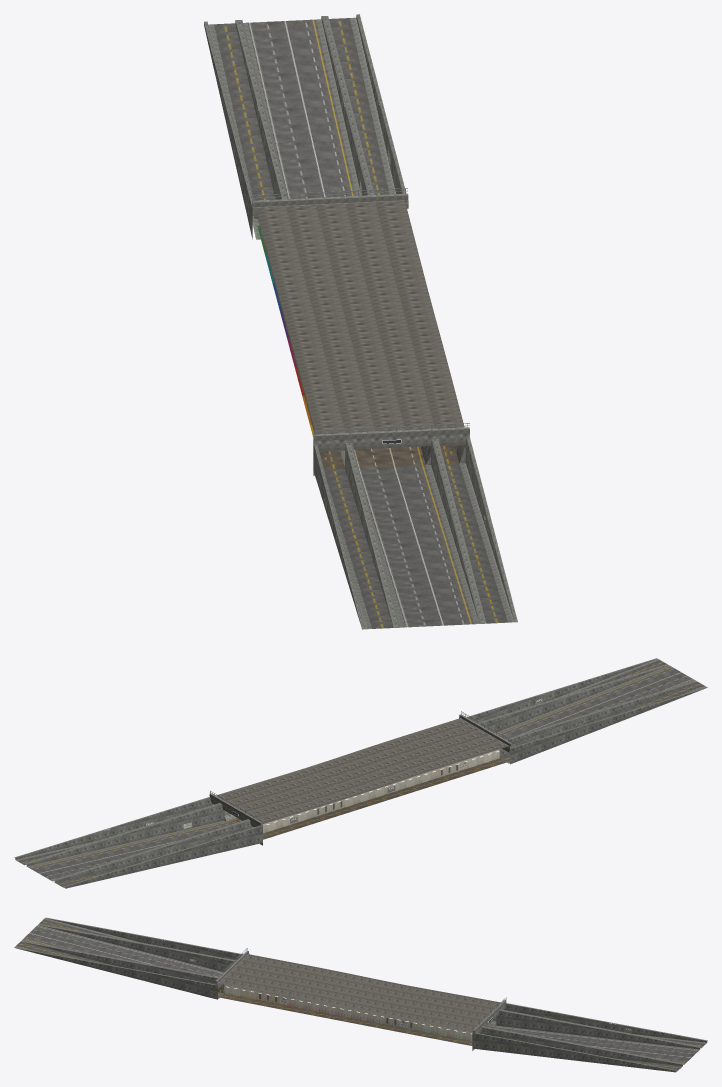
Rendered from lu_unterfuehrung.glb.
3 views of the same model, one above another, from view 1: azimuth 30°, elevation 25°; view 2: azimuth 150°, elevation 25°; view 3: azimuth 270°, elevation 25° (orthographic). The views are drawn at different scales.
Parts seen in each view (by area): view 1: lu_unterfuehrung; view 2: lu_unterfuehrung; view 3: lu_unterfuehrung.
Part boxes in pixels (x1,y1,x2,y2): lu_unterfuehrung: (204,14,517,629); lu_unterfuehrung: (14,658,707,888); lu_unterfuehrung: (14,917,707,1072).
Size of the model in its own units: 122 by 9.44 by 234.
3 materials, 3 textured.
